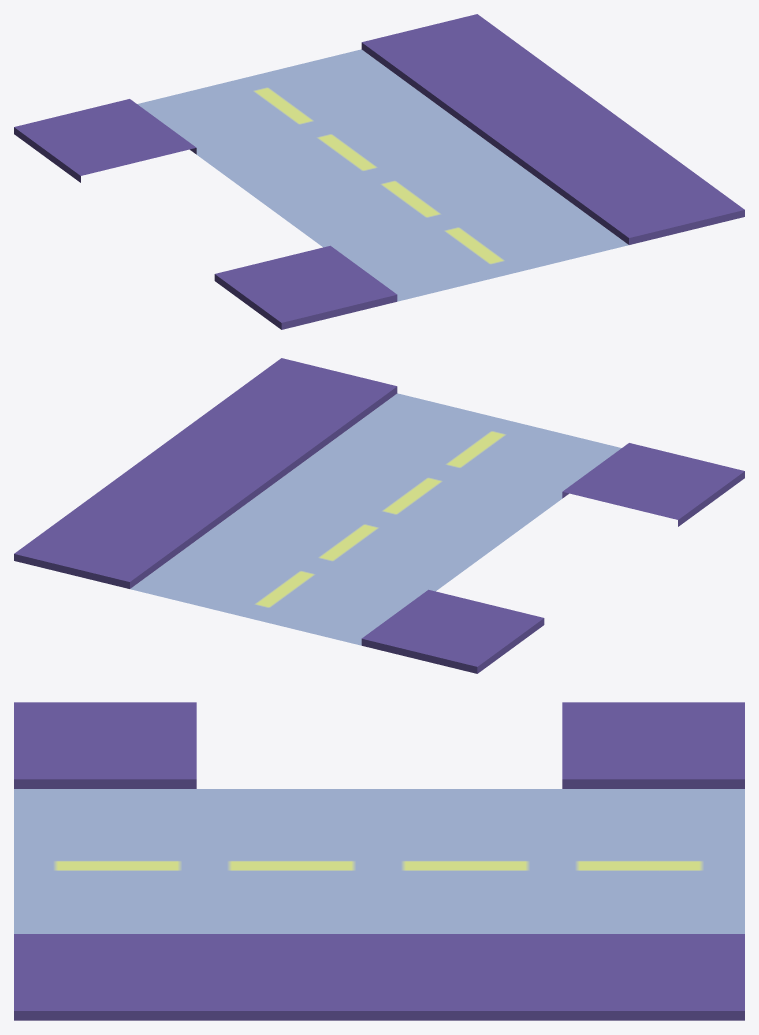
The model's file is road2.fbx.
The picture shows the model from 3 angles, top to bottom: view 1: azimuth 30°, elevation 25°; view 2: azimuth 150°, elevation 25°; view 3: azimuth 270°, elevation 25°; orthographic projection. The views are drawn at different scales.
Visible parts, largest first — view 1: Plane.001; view 2: Plane.001; view 3: Plane.001.
Part boxes in pixels (x1,y1,x2,y2): Plane.001: [14, 14, 744, 329]; Plane.001: [14, 358, 744, 673]; Plane.001: [14, 702, 744, 1020].
Bounding box in the file's own units: 4 × 0.0582 × 4.
Materials: 1 (1 with a texture image).
